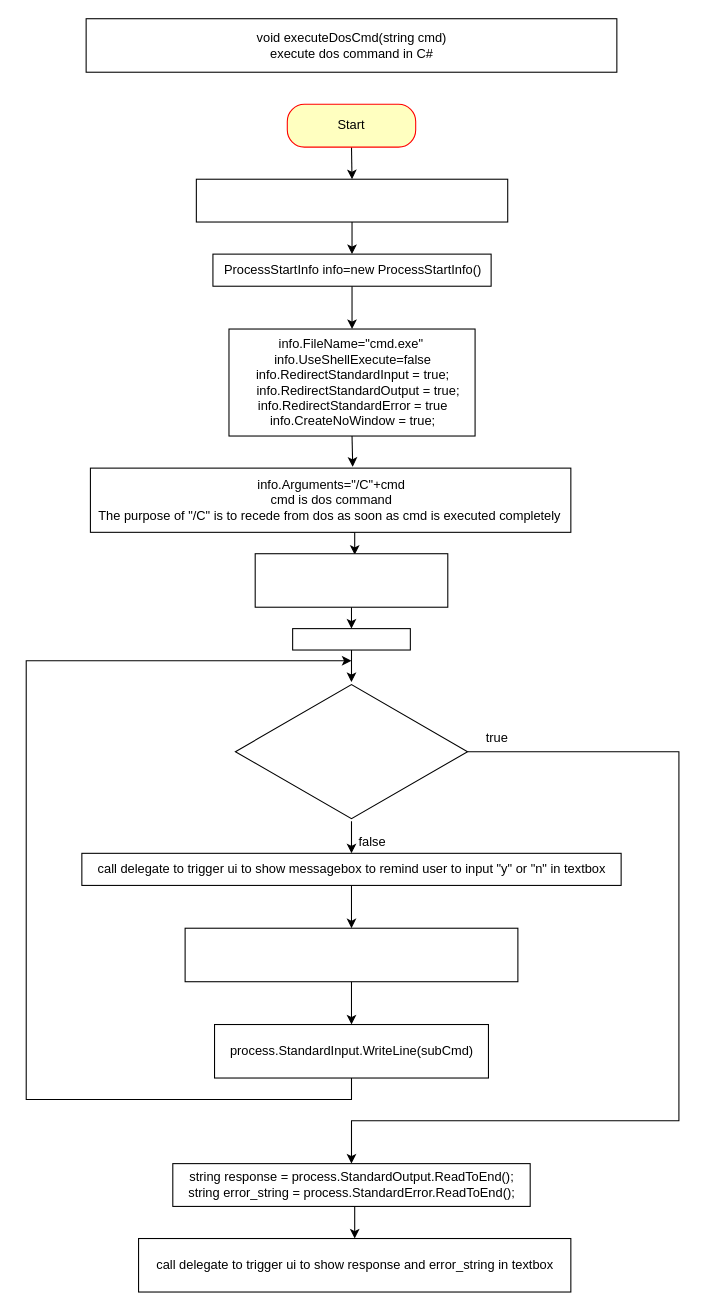
This 706x1311 diagram has some shape labels left out. Here are the shapes that lost their labels. From the top down, the centre of each, then its label:
point 351,200: Process process=new Process()
point 351,580: process.StartInfo=info
point 351,639: process.Start()
point 351,751: process.WaitForExit(1000)
point 351,954: get text box content "subCmd" and clear it by delegate
